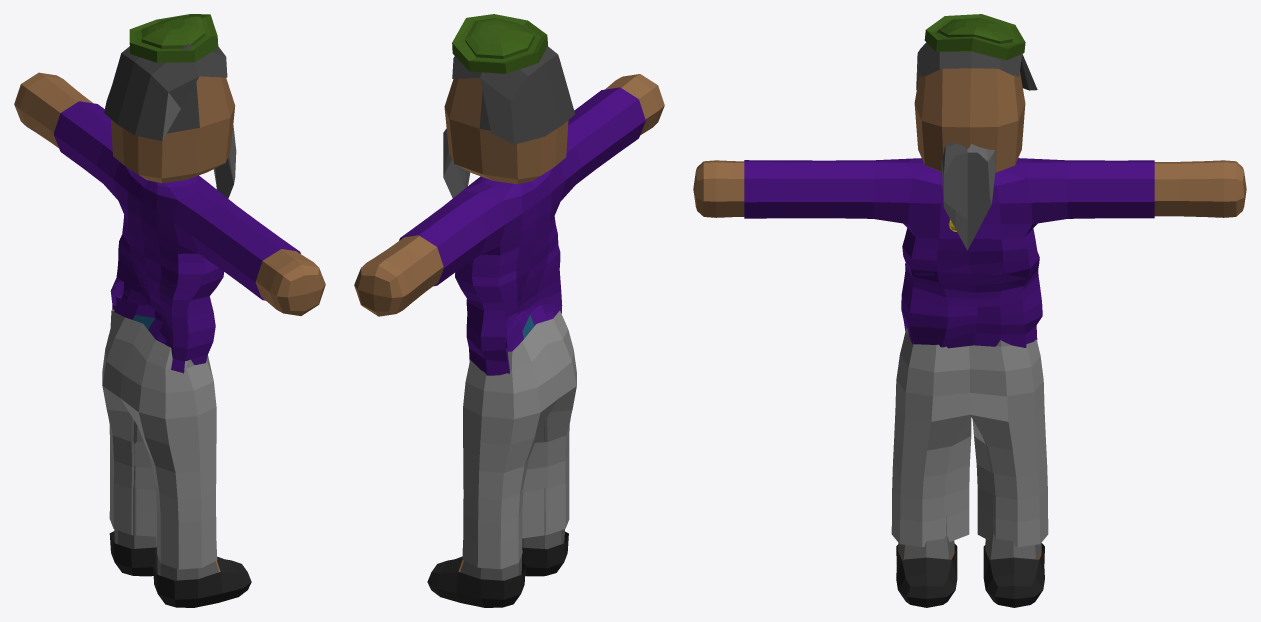
The model's file is stylizedHumanUnrigged.fbx.
3 renders of one model, left to right at view 1: azimuth 30°, elevation 25°; view 2: azimuth 150°, elevation 25°; view 3: azimuth 270°, elevation 25°, orthographic.
Parts seen in each view (by area): view 1: Character.001; view 2: Character.001; view 3: Character.001.
Part boxes in pixels (x1=…): Character.001: x1=14, y1=14, x2=325, y2=607; Character.001: x1=354, y1=14, x2=664, y2=607; Character.001: x1=693, y1=14, x2=1246, y2=607.
Size of the model in its own units: 31.16 by 152 by 133.
Materials: 1 (1 with a texture image).
